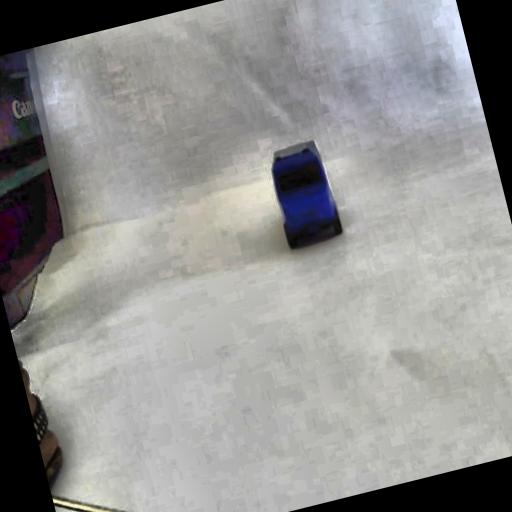police car: (266, 140, 348, 251)
